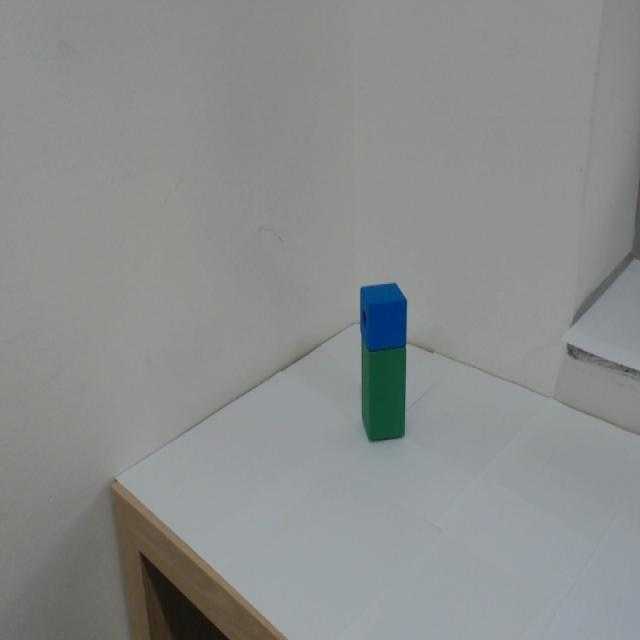cube: (362, 281, 409, 348)
